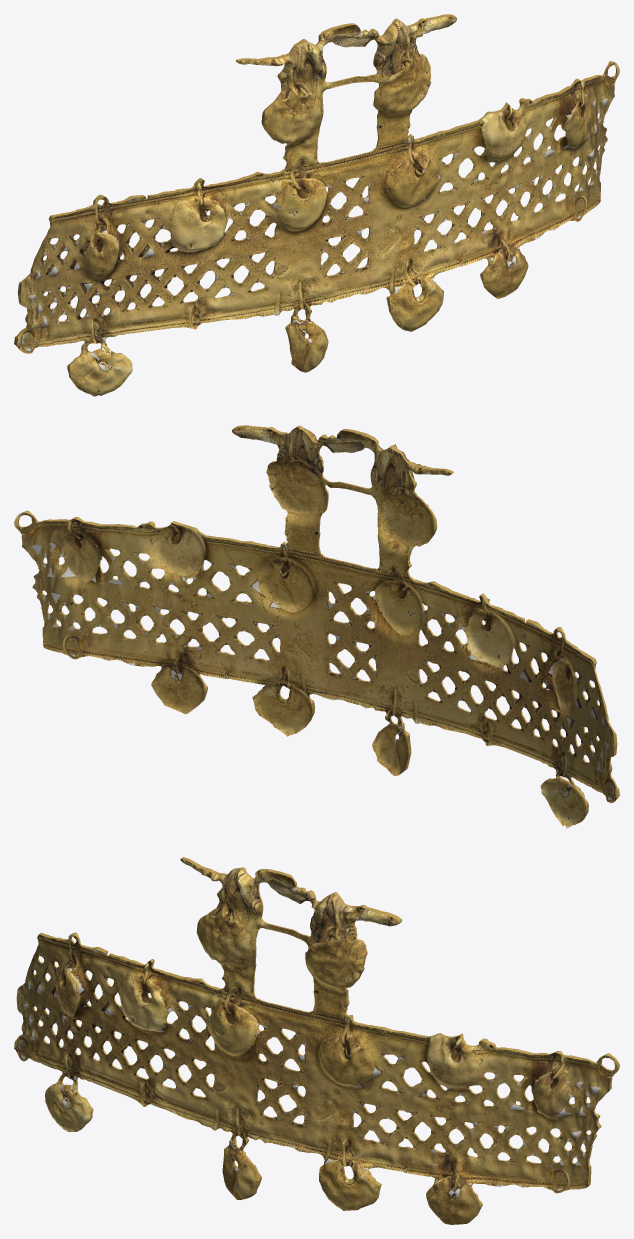
Rendered from seccion_de_diadema.glb.
3 views of the same model, one above another, from view 1: azimuth 30°, elevation 25°; view 2: azimuth 150°, elevation 25°; view 3: azimuth 330°, elevation 25° (orthographic).
Parts seen in each view (by area): view 1: seccion_de_diadema; view 2: seccion_de_diadema; view 3: seccion_de_diadema.
Boxes of the visible parts, left/top/right/bottom form: seccion_de_diadema: left=14, top=14, right=619, bottom=396; seccion_de_diadema: left=14, top=425, right=619, bottom=828; seccion_de_diadema: left=14, top=857, right=619, bottom=1224.
Size of the model in its own units: 10.26 by 5.45 by 1.22.
1 material, 1 textured.
